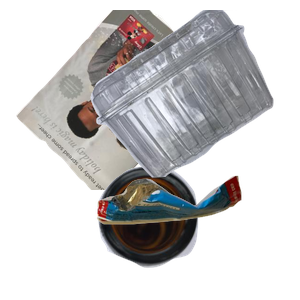glass: (95, 164, 286, 300)
paper: (14, 10, 229, 190)
plastic: (88, 10, 300, 180)
trash: (94, 173, 300, 300)
